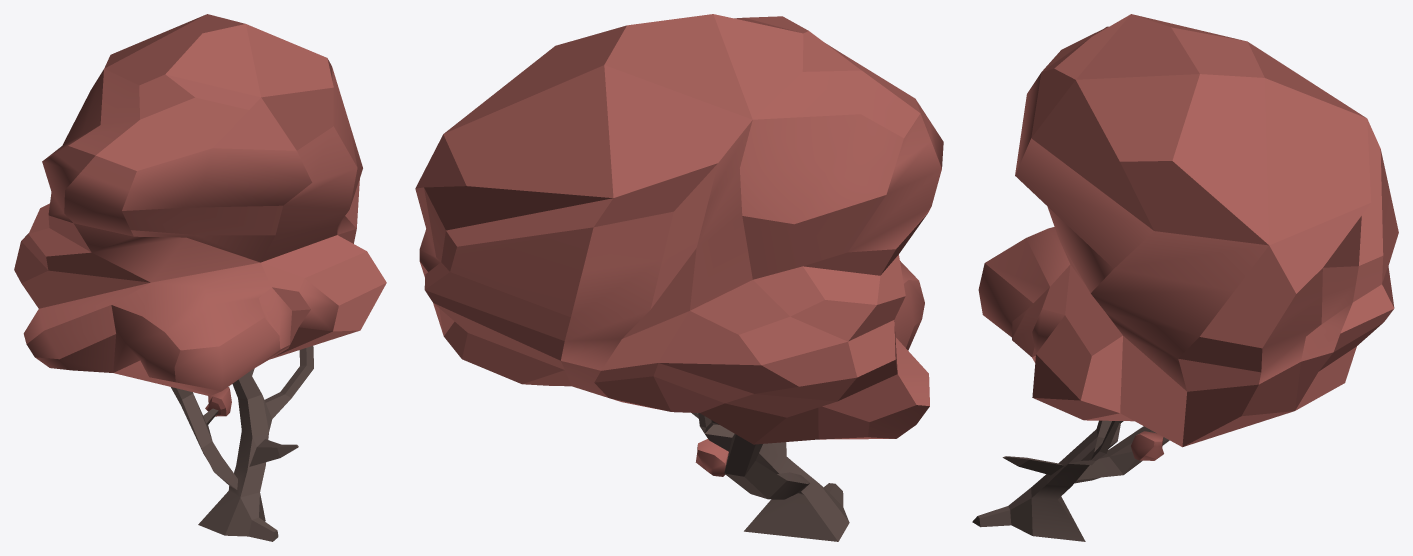
The model's file is tree_var2_v01.fbx.
3 views of the same model, side by side, from view 1: azimuth 30°, elevation 25°; view 2: azimuth 150°, elevation 25°; view 3: azimuth 270°, elevation 25° (orthographic). The views are drawn at different scales.
Visible parts, largest first — view 1: japaneseMaple; view 2: japaneseMaple; view 3: japaneseMaple.
Part boxes in pixels (<box>): japaneseMaple: <box>14,14,386,541</box>; japaneseMaple: <box>415,14,943,541</box>; japaneseMaple: <box>972,14,1398,541</box>.
Size of the model in its own units: 291 by 332 by 254.
